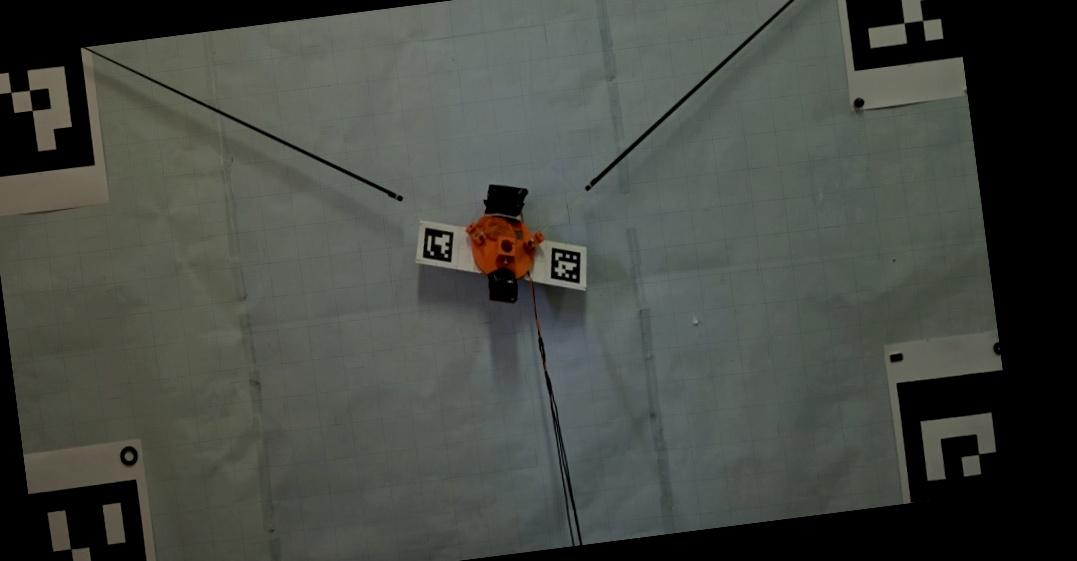robot: (465, 183, 547, 304)
